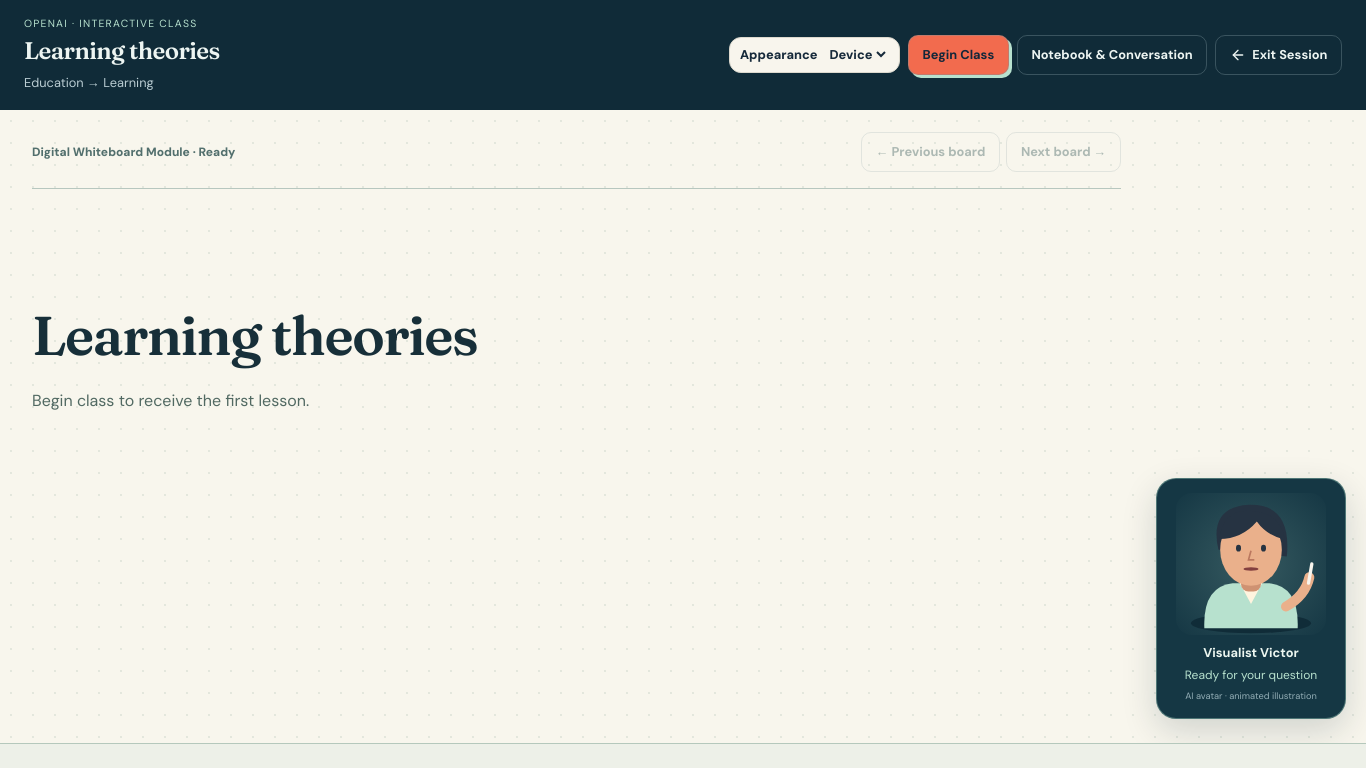
Scenario: turning voice off during a request prevents the pending explanation from playing
Click the button "Begin Class". click: (958, 55)
box: [908, 35, 1009, 75]
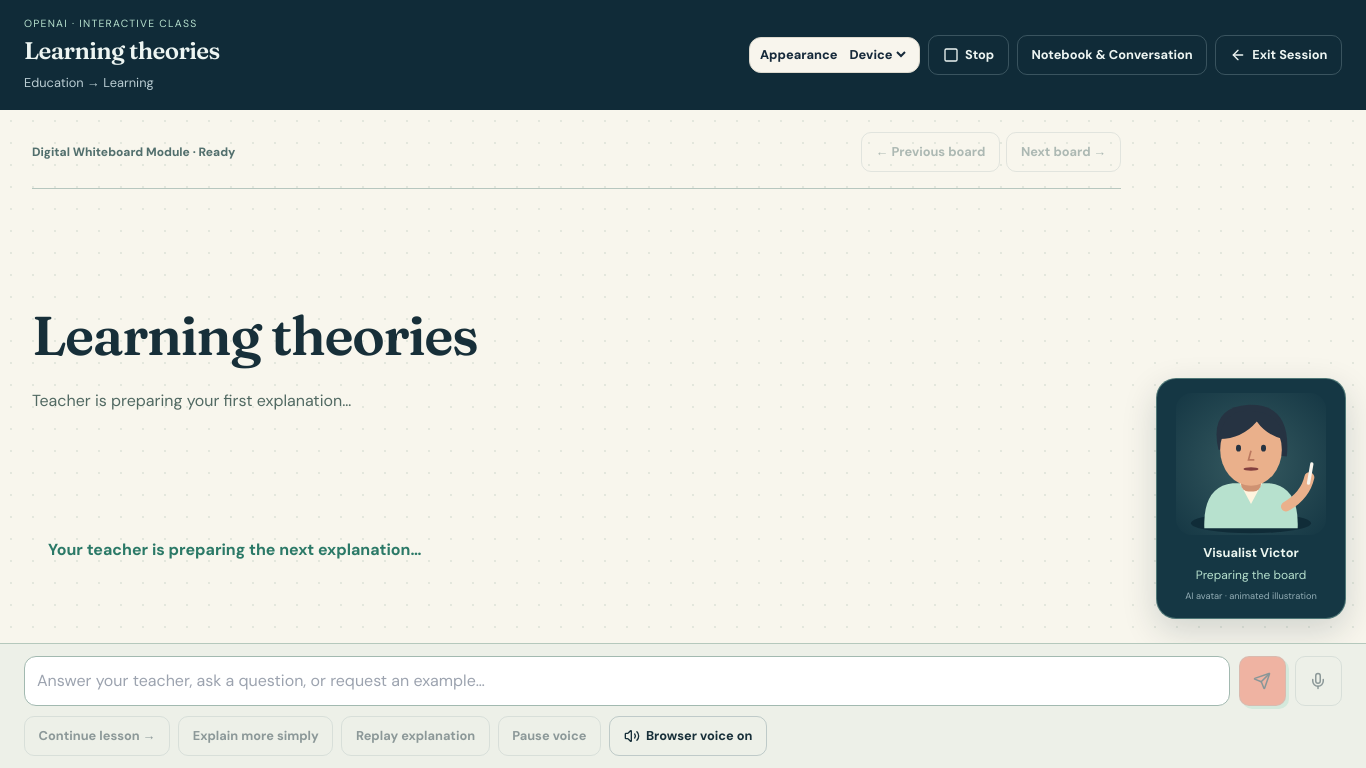
Click the button "Browser voice on". click: (688, 736)
box: [609, 716, 767, 756]
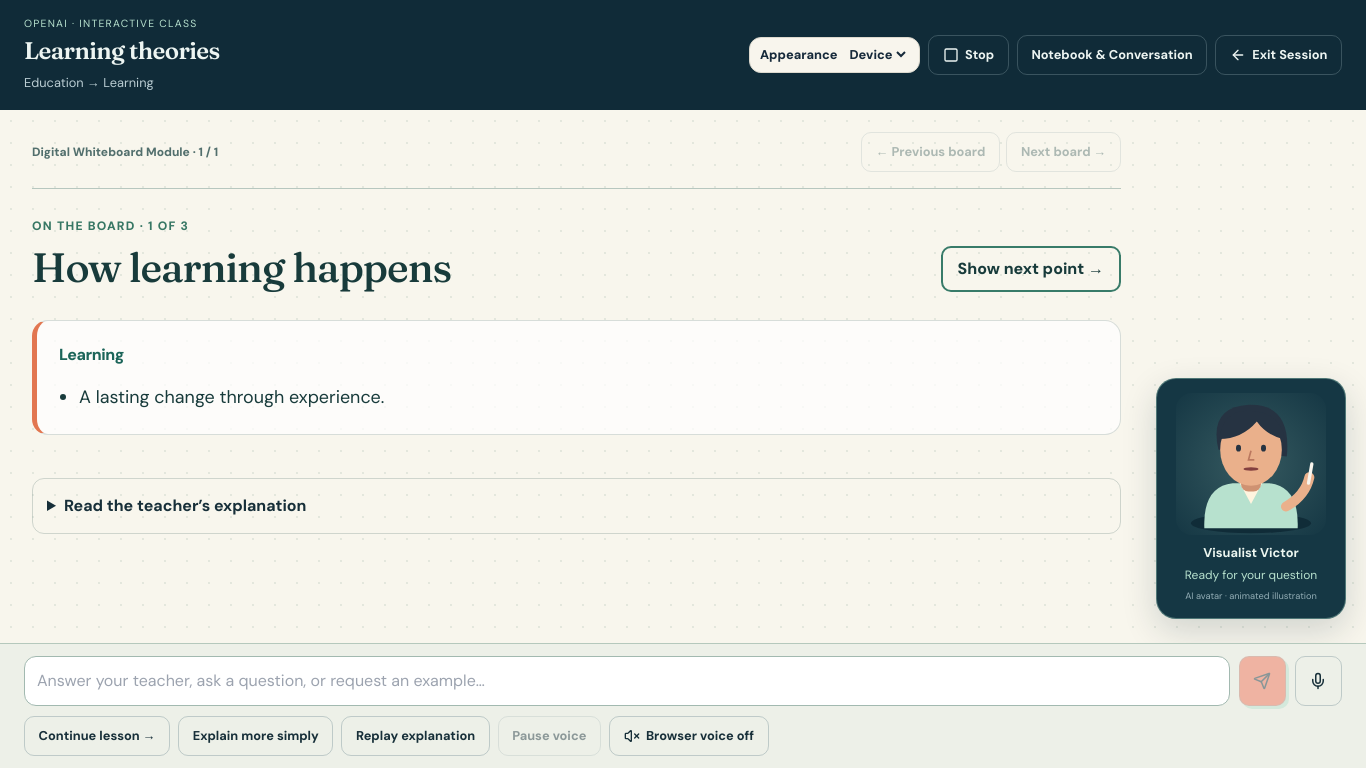
Check: the button "Show next point →" is shown, box [940, 246, 1121, 292]
